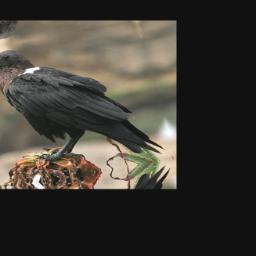Crow: (0, 27, 167, 181)
